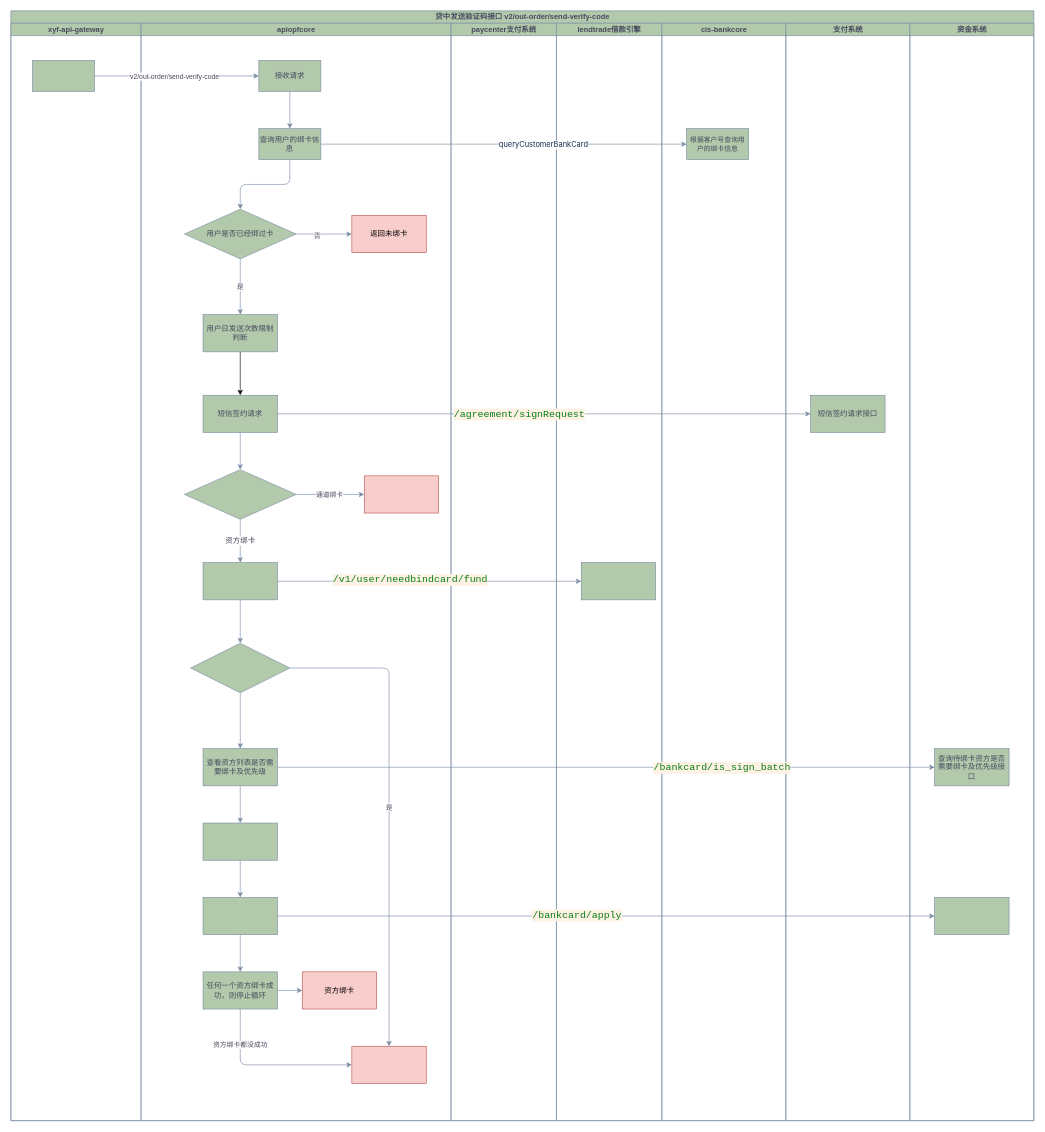
Some shapes in this 1045 by 1132 pixel diagram are drawn without their labels. Each missing label, with the centre of its shape:
"信飞平台绑卡" goes at point (388, 1064).
"待绑卡资方列表接口" goes at point (618, 581).
"待绑卡资方列表是否为空" goes at point (240, 668).
"按优先级顺序循环依次进行绑卡" goes at point (239, 841).
"查询待绑卡资方列表" goes at point (239, 581).
"根据接口返回数据，判断是通道绑卡还是资方绑卡" goes at point (240, 494).
"请求发送借款验证码" goes at point (63, 75).
"资方绑卡申请" goes at point (239, 916).
"资方绑卡申请接口" goes at point (971, 916).
"返回通道绑卡" goes at point (401, 494).
